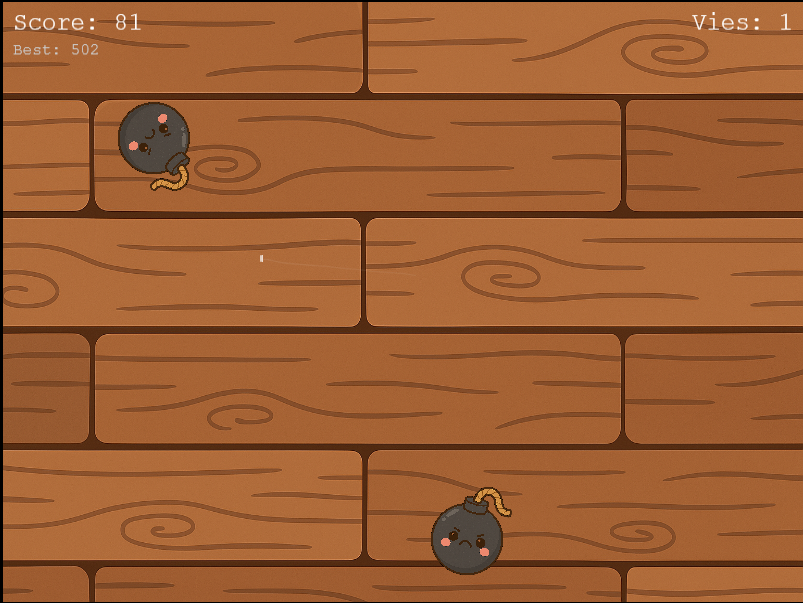bomb: (422, 480, 523, 581), (110, 101, 203, 194)
